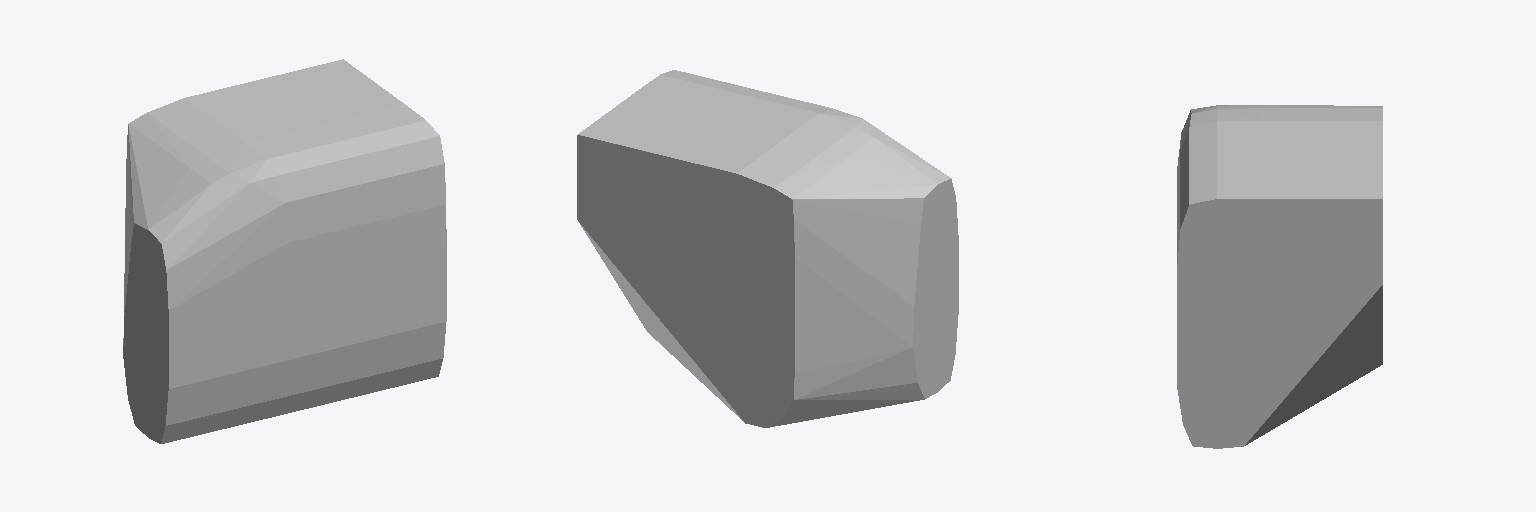
Rendered from work_bench_collision_14.obj.
3 renders of one model, left to right at view 1: azimuth 30°, elevation 25°; view 2: azimuth 150°, elevation 25°; view 3: azimuth 270°, elevation 25°, orthographic.
Bounding box in the file's own units: 0.1373 × 0.1182 × 0.0883.